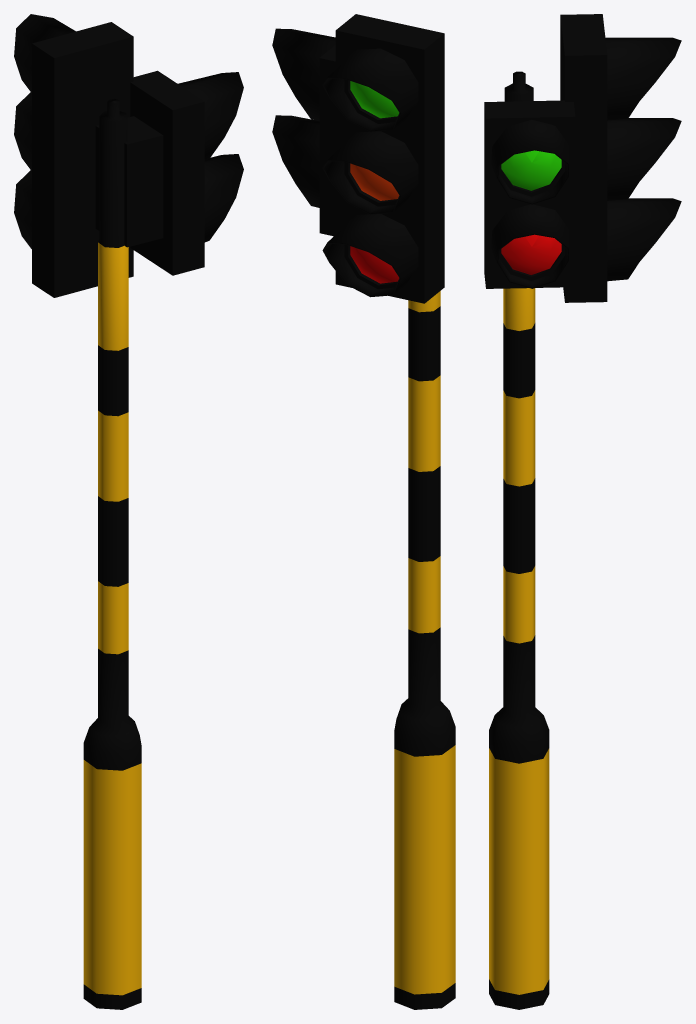
The model's file is trafficlight2.FBX.
3 renders of one model, left to right at view 1: azimuth 30°, elevation 25°; view 2: azimuth 150°, elevation 25°; view 3: azimuth 270°, elevation 25°, orthographic. The views are drawn at different scales.
Visible parts, largest first — view 1: TrafficLight2; view 2: TrafficLight2, GreenLight, OrangeLight, RedLight; view 3: TrafficLight2, GreenMiniLight, RedMiniLight.
Boxes of the visible parts, x1,y1,x2,y2 form: TrafficLight2: (14,14,243,1009); TrafficLight2: (272,14,455,1009); GreenLight: (350,81,399,118); OrangeLight: (350,163,399,200); RedLight: (350,246,399,283); TrafficLight2: (484,14,681,1009); GreenMiniLight: (501,150,561,190); RedMiniLight: (501,234,561,274).
Size of the model in its own units: 66.29 by 341 by 63.42.
